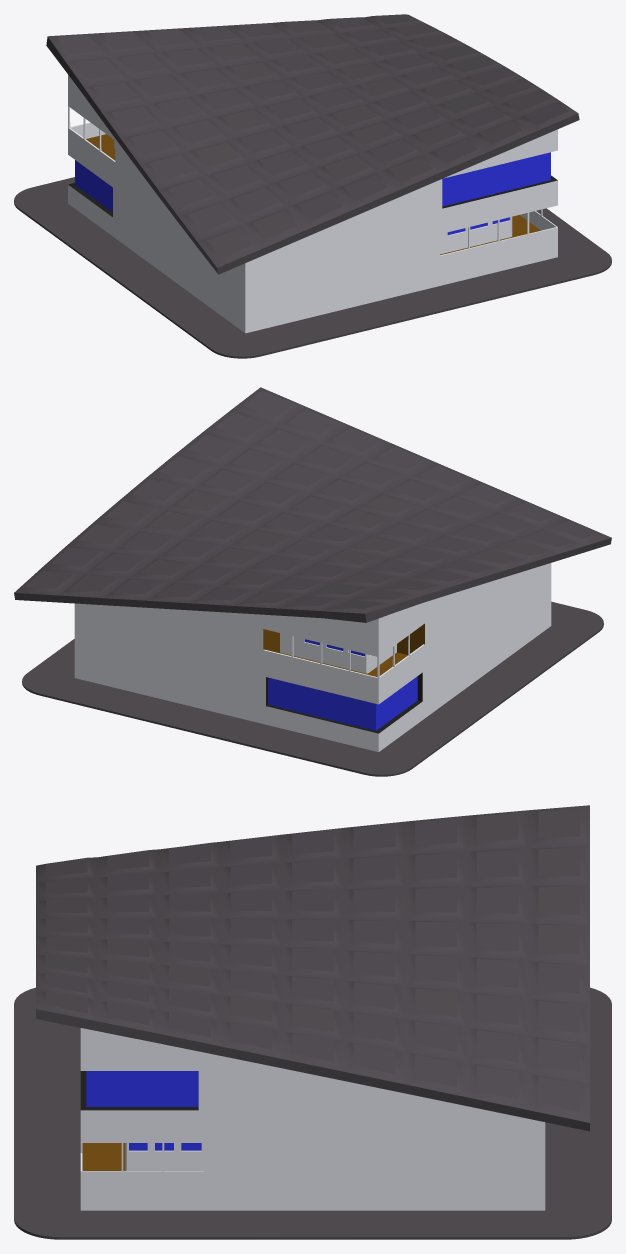
Rendered from SM_B_i10_Roof.fbx.
3 renders of one model, top to bottom at view 1: azimuth 30°, elevation 25°; view 2: azimuth 150°, elevation 25°; view 3: azimuth 270°, elevation 25°, orthographic. The views are drawn at different scales.
Visible parts, largest first — view 1: SM_B_i10_Roof; view 2: SM_B_i10_Roof; view 3: SM_B_i10_Roof.
Part boxes in pixels (box(x1,y1,x2,y2)): SM_B_i10_Roof: box(14, 14, 611, 358); SM_B_i10_Roof: box(14, 387, 611, 776); SM_B_i10_Roof: box(14, 805, 611, 1239).
Bounding box in the file's own units: 2138 × 803 × 2100.
